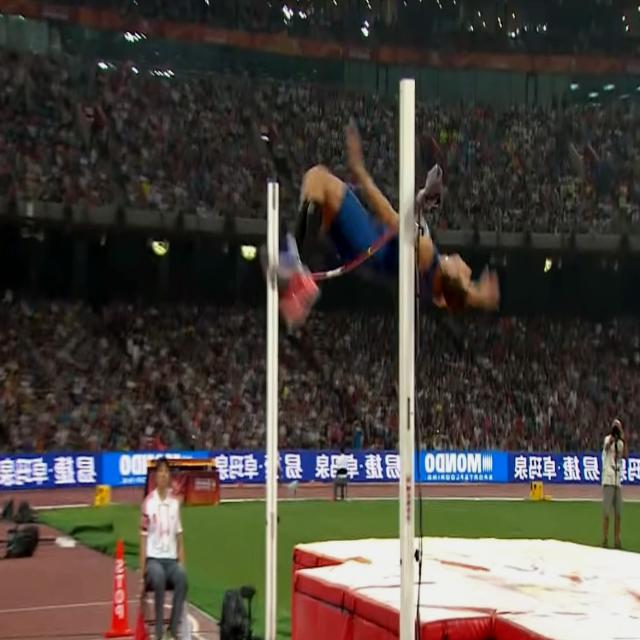jump: (274, 120, 500, 325)
